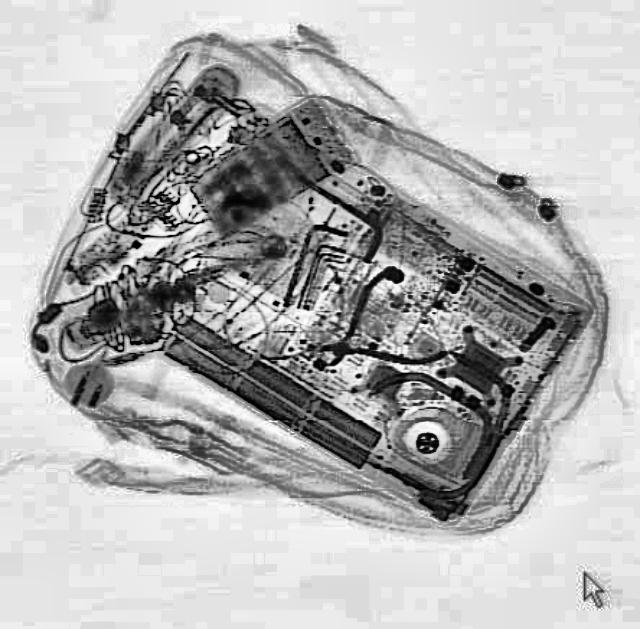Pliers: (290, 261, 452, 401)
